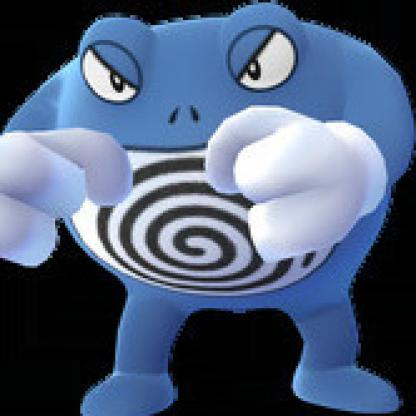Poliwrath: (1, 11, 415, 415)
